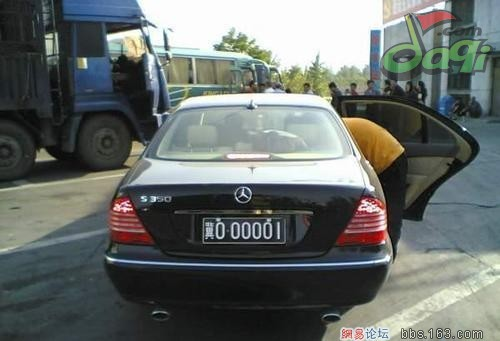plate_number: (201, 216, 285, 244)
